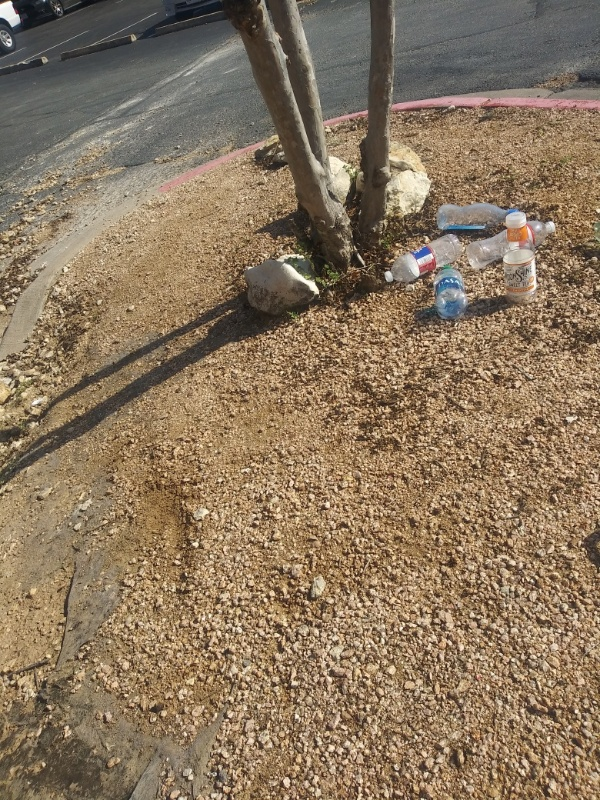bottle: (379, 230, 468, 287), (467, 214, 559, 268), (502, 209, 541, 306), (430, 200, 530, 236), (437, 263, 468, 323)
